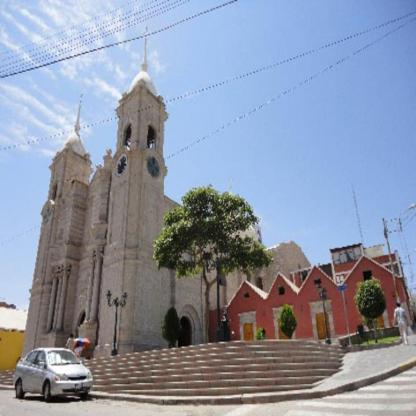Car: (15, 348, 95, 402)
